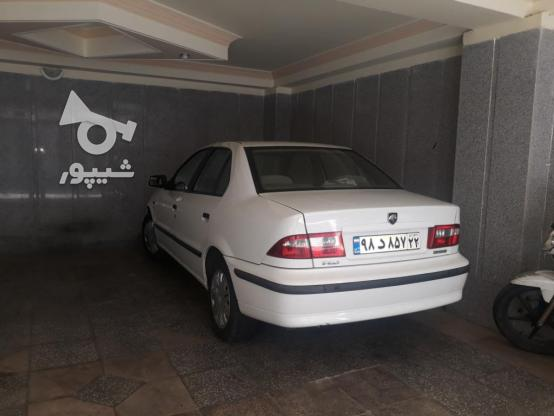car: (351, 229, 422, 255)
